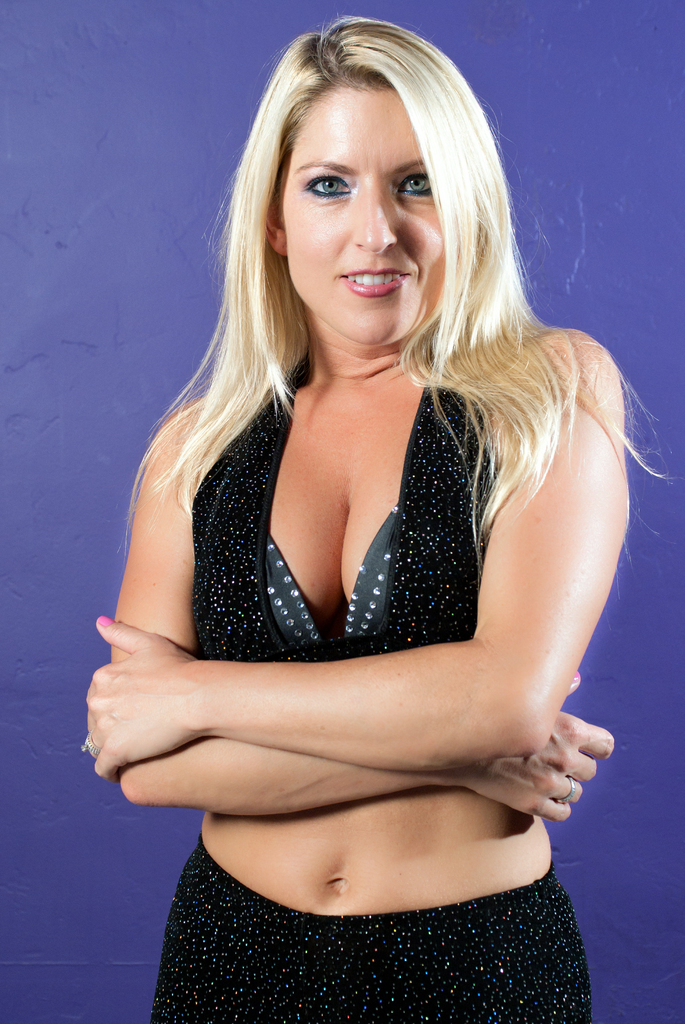Human_hand: (464, 672, 615, 824), (75, 611, 193, 783)
